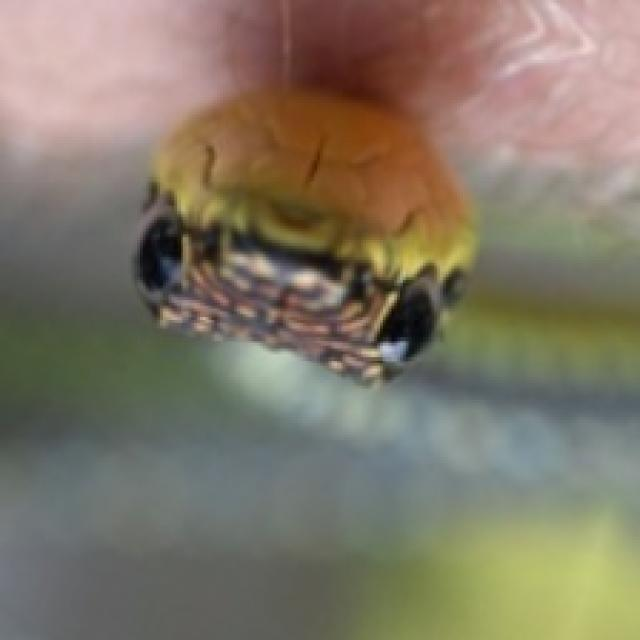paradise tree snake: (137, 91, 474, 380)
